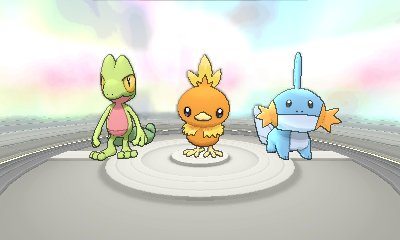mudkip: (253, 50, 343, 160)
